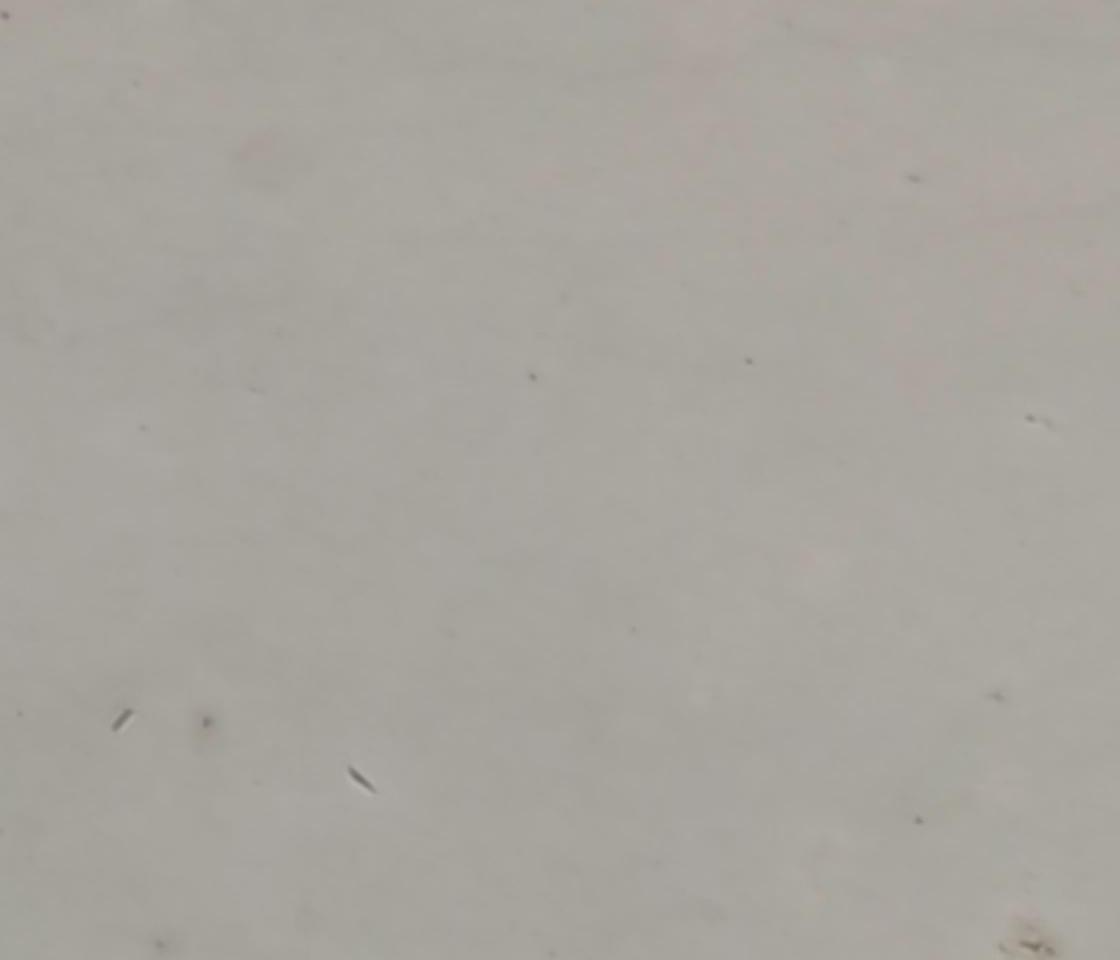scratch: (100, 704, 141, 736), (345, 764, 379, 796)
